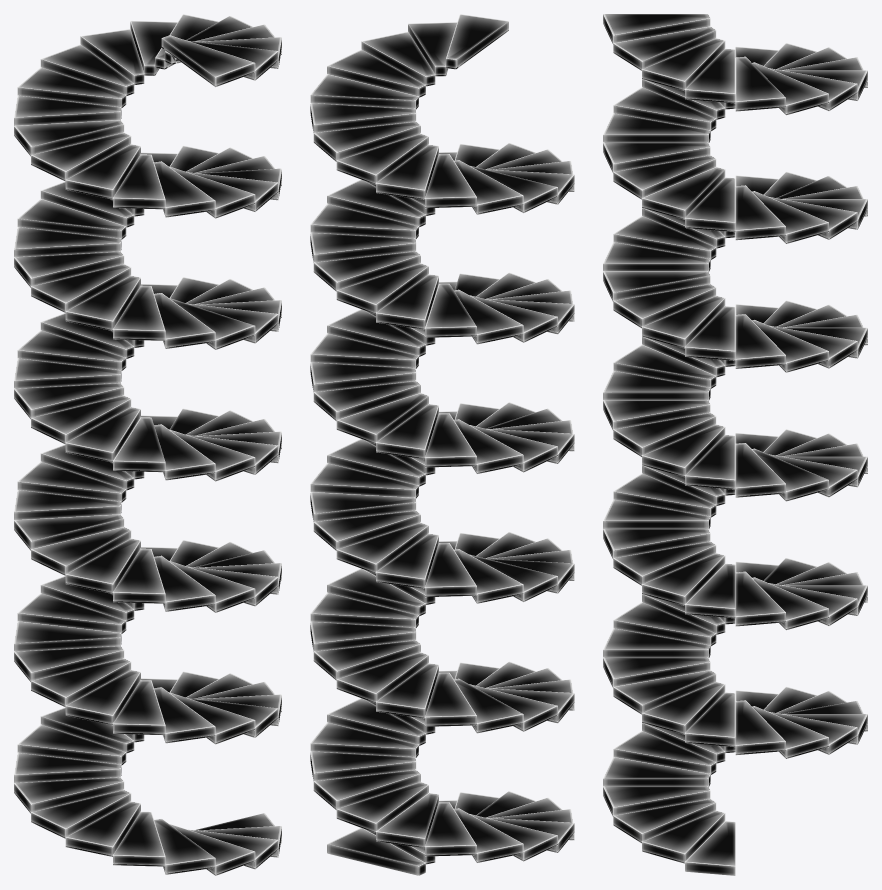
File: uxr_spiral_stairs.glb
The picture shows the model from 3 angles, left to right: view 1: azimuth 30°, elevation 25°; view 2: azimuth 150°, elevation 25°; view 3: azimuth 270°, elevation 25°; orthographic projection. The views are drawn at different scales.
Parts seen in each view (by area): view 1: Object_2; view 2: Object_2; view 3: Object_2.
Boxes of the visible parts, x1,y1,x2,y2 form: Object_2: [14, 14, 281, 875]; Object_2: [310, 14, 574, 875]; Object_2: [603, 14, 867, 875].
Size of the model in its own units: 5.72 by 19.22 by 5.72.
1 material, 1 textured.
